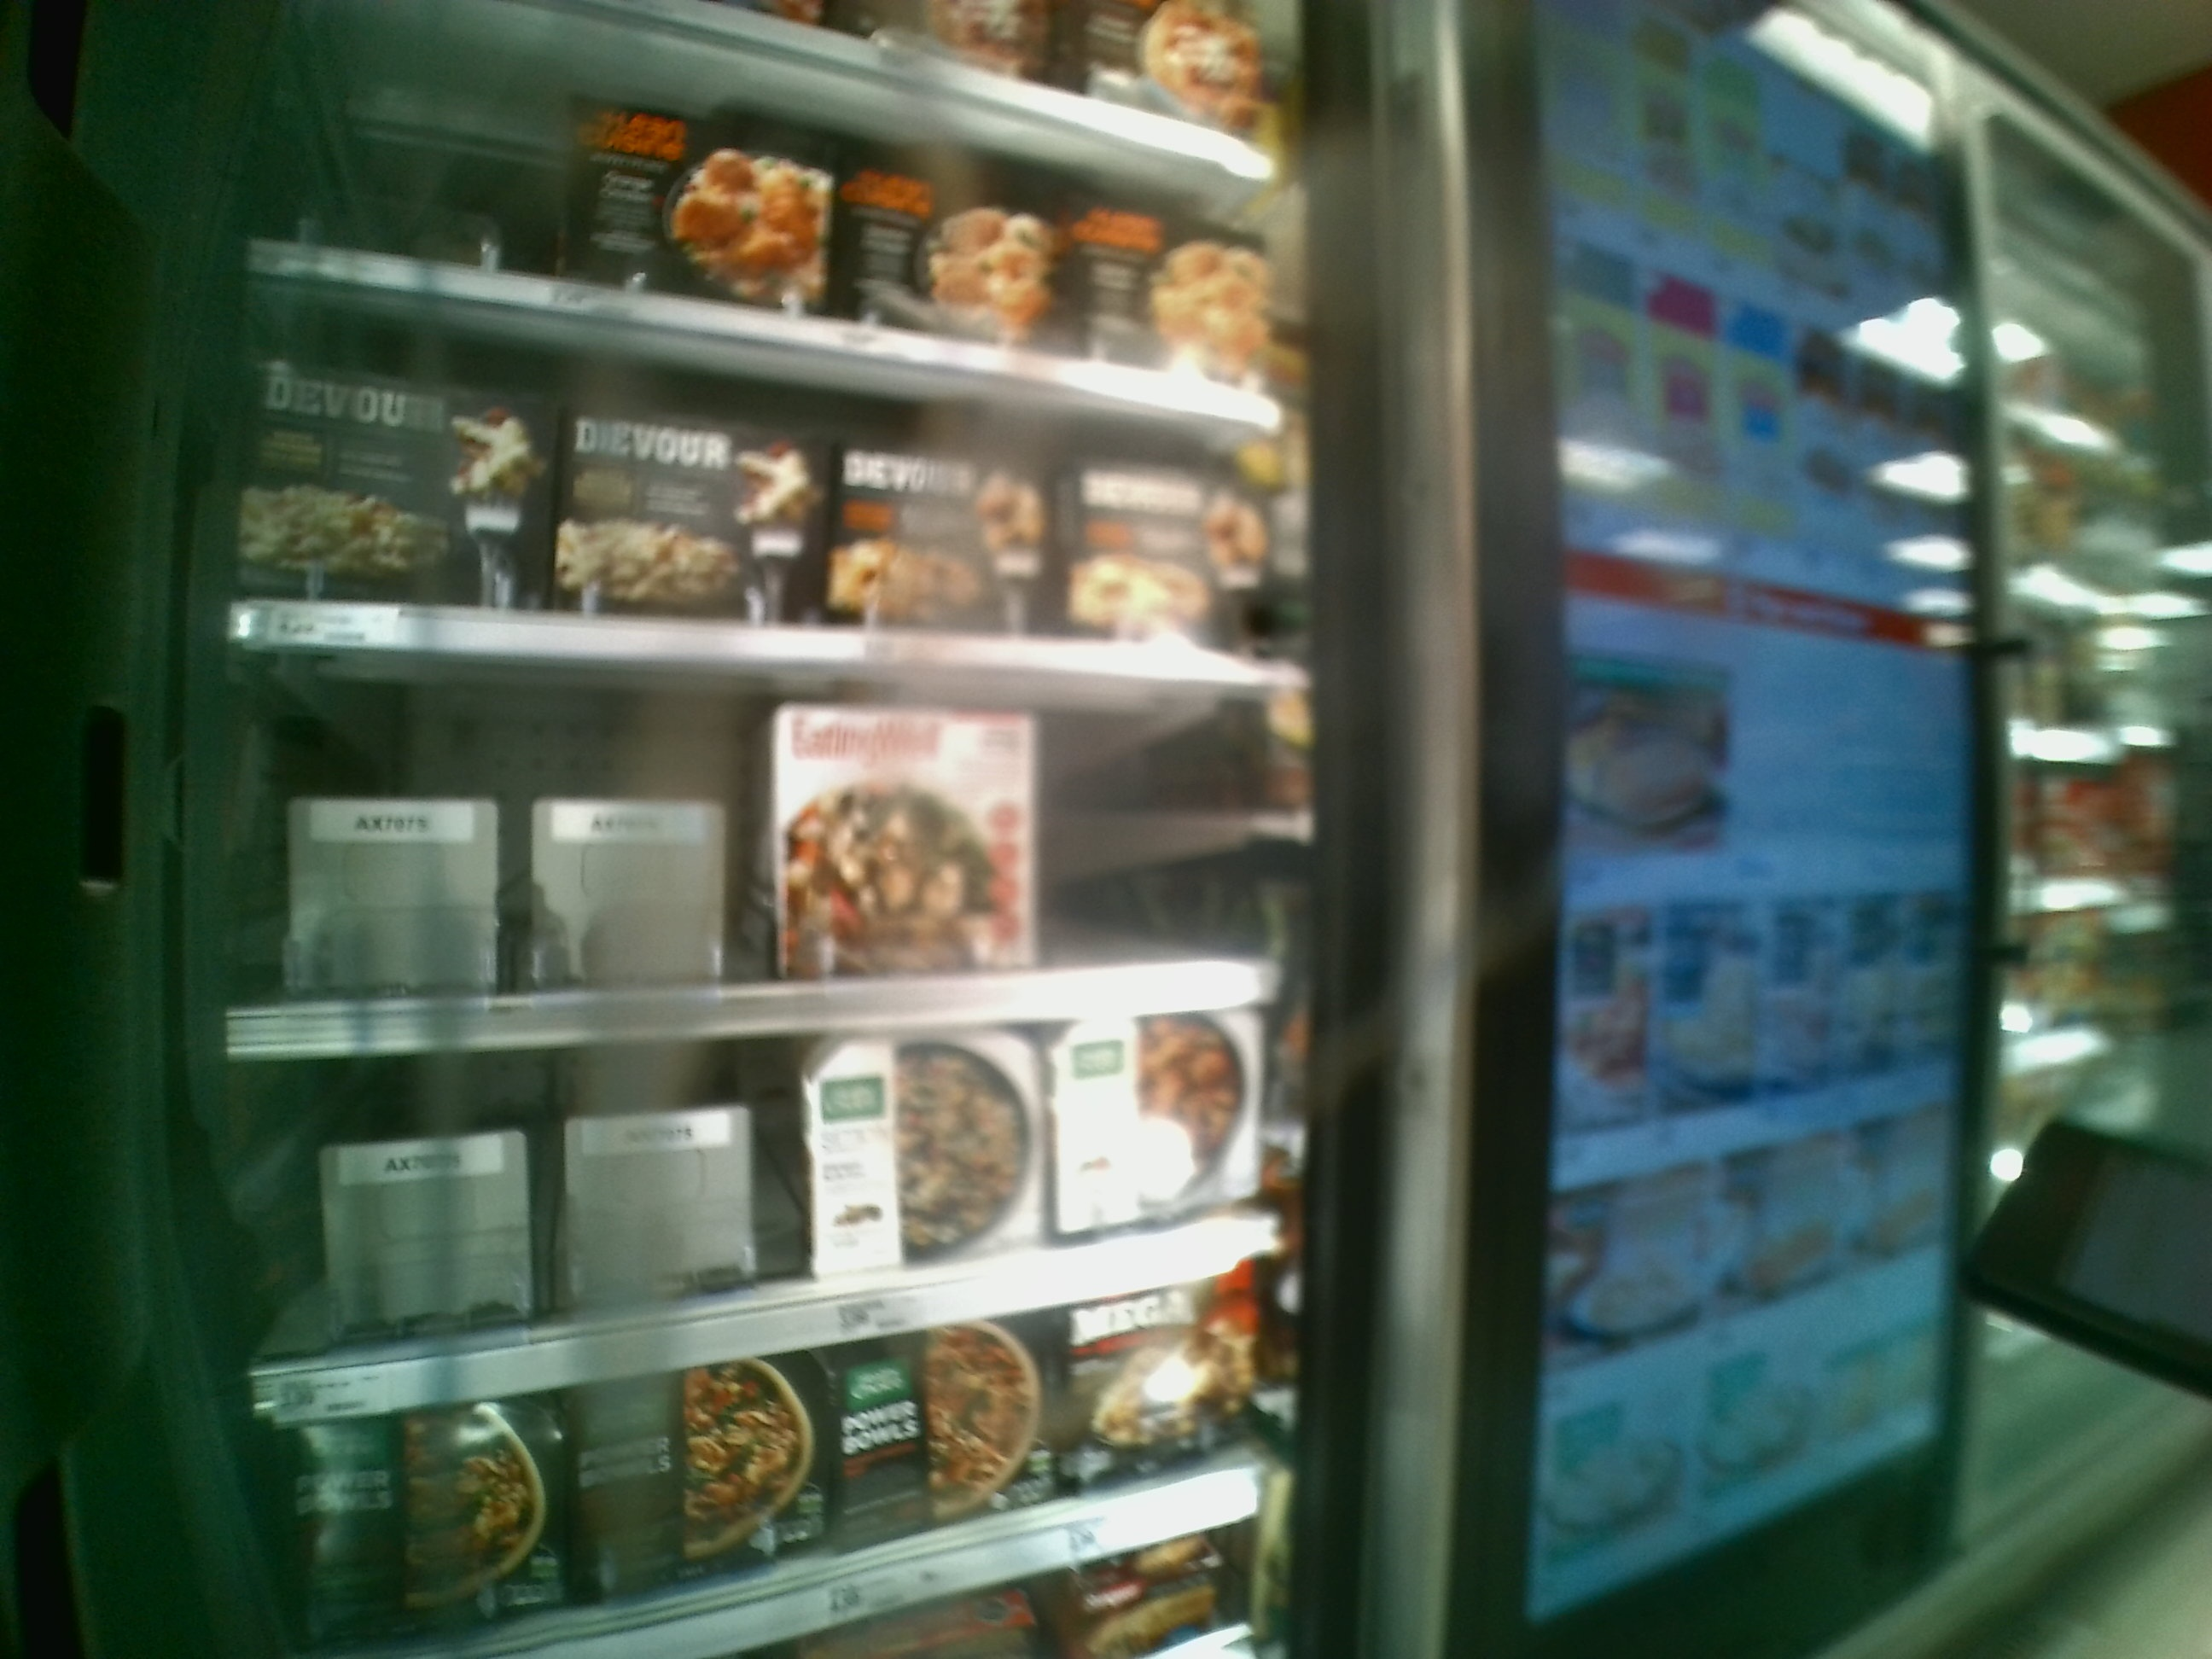shelf: (218, 636, 1332, 1058)
